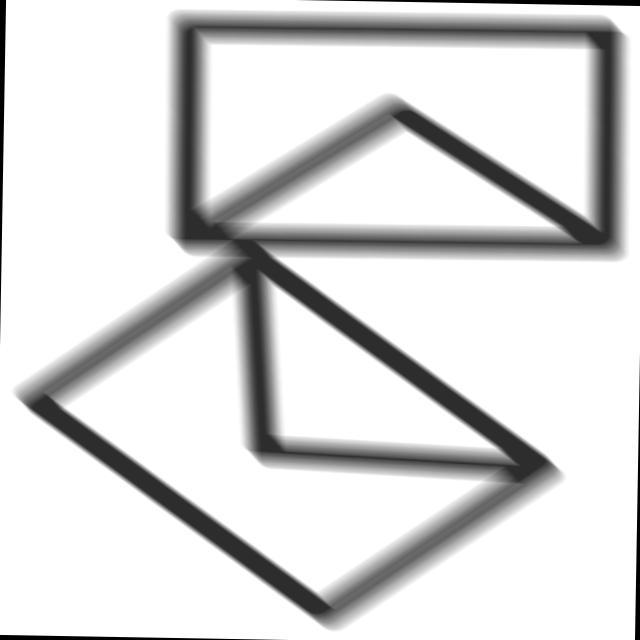letter: (4, 231, 577, 640), (157, 3, 628, 273)
